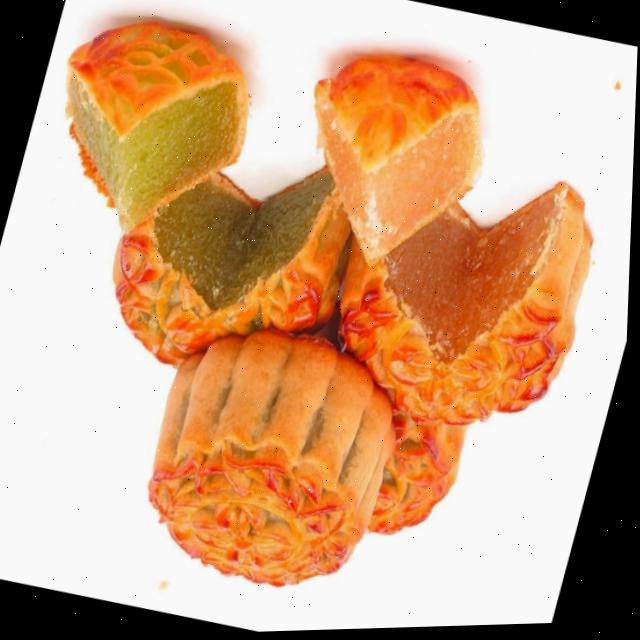蛋糕甜品: (0, 4, 631, 640)
